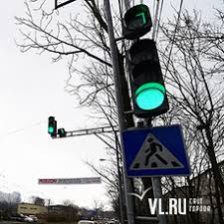semaforo: (124, 37, 169, 121), (47, 116, 58, 138)
